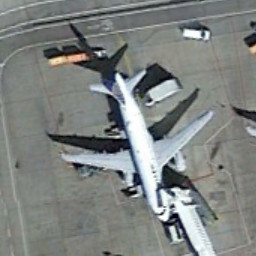Airplane: (48, 65, 222, 227)
